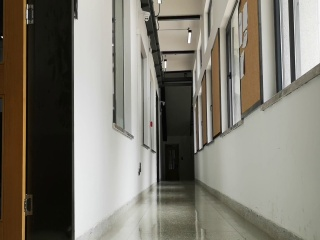room: (1, 1, 79, 239)
